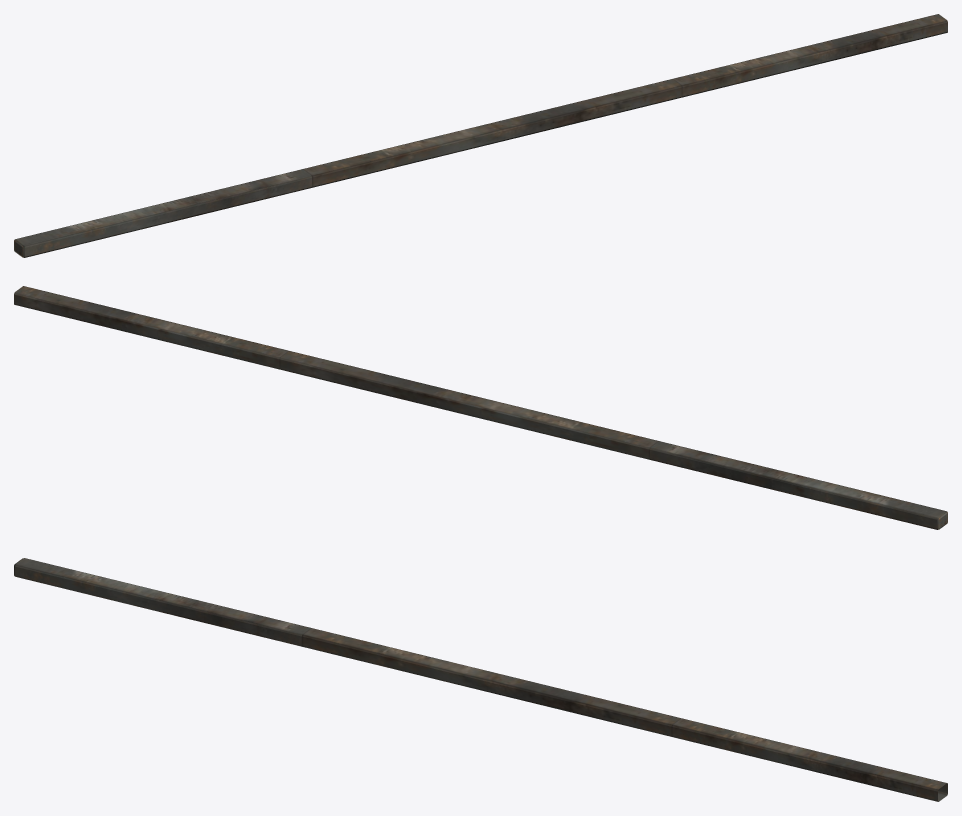
Rendered from railing_004.glb.
3 renders of one model, top to bottom at view 1: azimuth 30°, elevation 25°; view 2: azimuth 150°, elevation 25°; view 3: azimuth 330°, elevation 25°, orthographic.
Parts seen in each view (by area): view 1: Building_12_074; view 2: Building_12_074; view 3: Building_12_074.
Boxes of the visible parts, x1=… form: Building_12_074: x1=14, y1=14, x2=947, y2=257; Building_12_074: x1=14, y1=286, x2=947, y2=529; Building_12_074: x1=14, y1=558, x2=947, y2=801.
Size of the model in its own units: 1 by 0.013 by 0.0189.
1 material, 1 textured.
